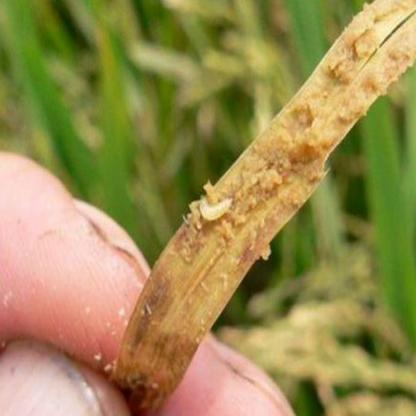whorl-maggot: (194, 193, 240, 227)
